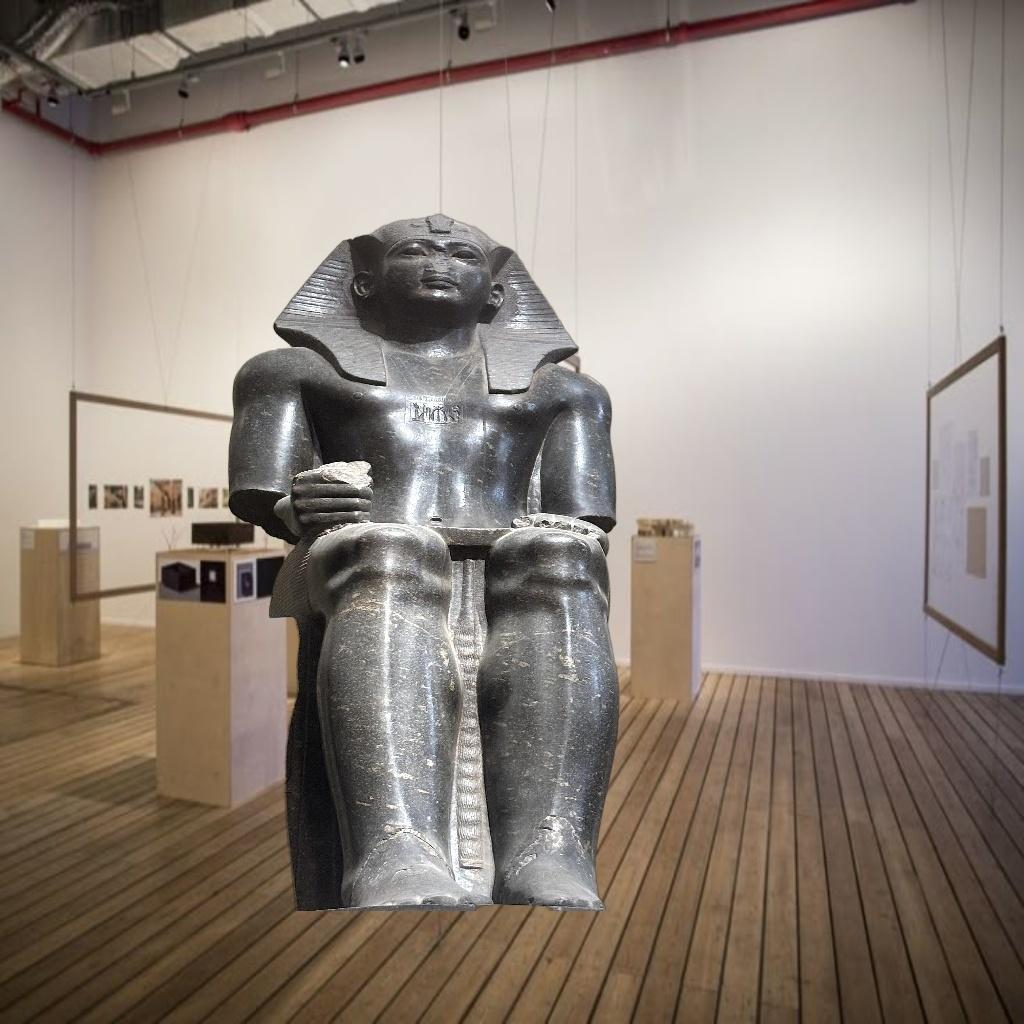Seated Statue of Ramesses II: (222, 210, 631, 911)
